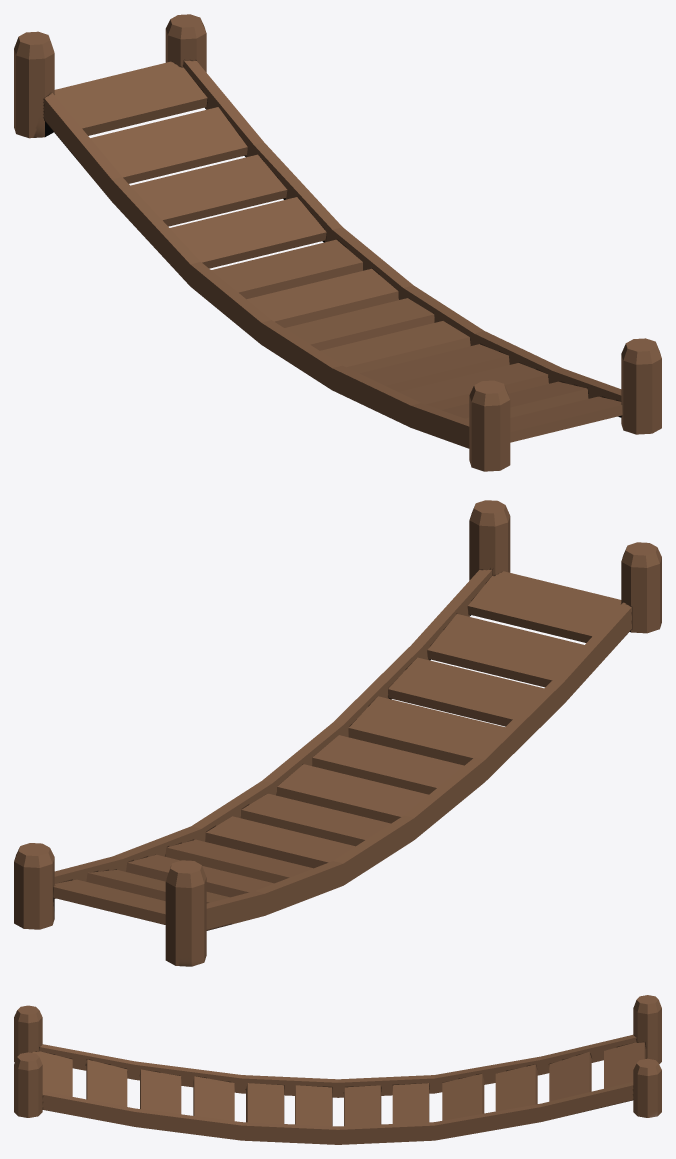
Rendered from Bridge.fbx.
3 renders of one model, top to bottom at view 1: azimuth 30°, elevation 25°; view 2: azimuth 150°, elevation 25°; view 3: azimuth 270°, elevation 25°, orthographic. The views are drawn at different scales.
Visible parts, largest first — view 1: Bridge; view 2: Bridge; view 3: Bridge.
Part boxes in pixels (x1,y1,x2,y2): Bridge: (14, 14, 661, 471); Bridge: (14, 500, 661, 966); Bridge: (14, 995, 661, 1144).
Bounding box in the file's own units: 1.43 × 1.02 × 6.28.
